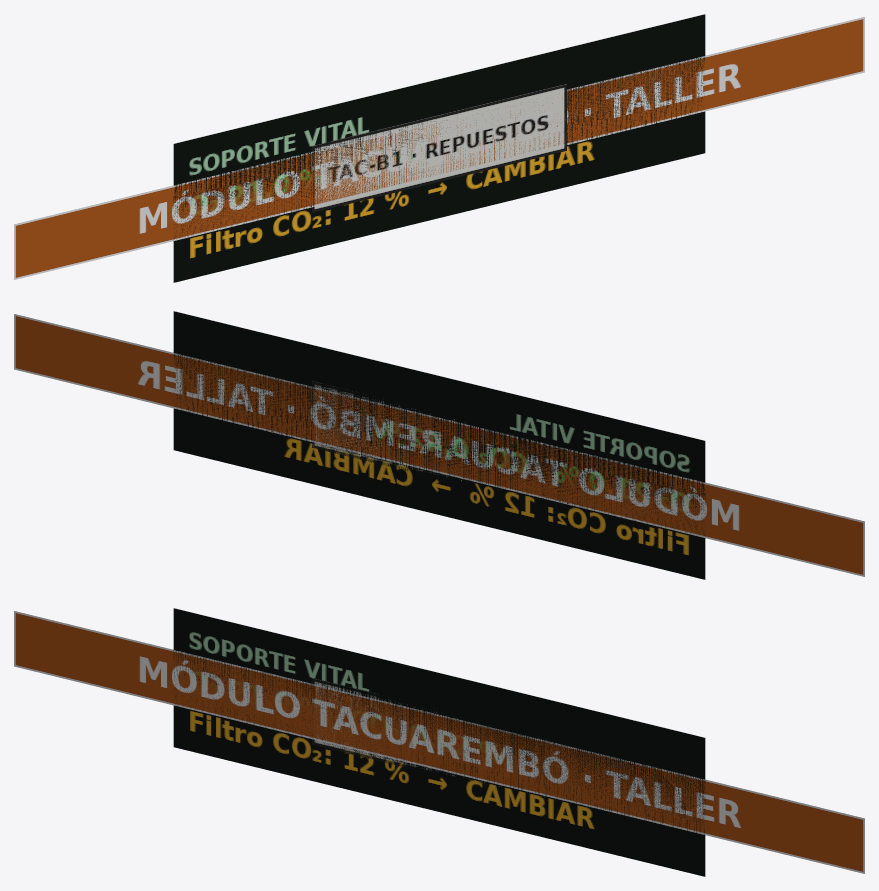
File: SM_Senaletica_Tacuarembo.fbx
3 views of the same model, one above another, from view 1: azimuth 30°, elevation 25°; view 2: azimuth 150°, elevation 25°; view 3: azimuth 330°, elevation 25° (orthographic).
Parts seen in each view (by area): view 1: SM_Pantalla_Soporte_Vital, SM_CartelT_0, SM_Etiqueta_TAC_B1; view 2: SM_Pantalla_Soporte_Vital, SM_CartelT_0, SM_Etiqueta_TAC_B1; view 3: SM_Pantalla_Soporte_Vital, SM_CartelT_0, SM_Etiqueta_TAC_B1.
Boxes of the visible parts, x1=… form: SM_Pantalla_Soporte_Vital: x1=173, y1=14, x2=705, y2=282; SM_CartelT_0: x1=14, y1=17, x2=864, y2=279; SM_Etiqueta_TAC_B1: x1=312, y1=84, x2=566, y2=212; SM_Pantalla_Soporte_Vital: x1=173, y1=311, x2=705, y2=579; SM_CartelT_0: x1=14, y1=314, x2=864, y2=576; SM_Etiqueta_TAC_B1: x1=312, y1=381, x2=474, y2=487; SM_Pantalla_Soporte_Vital: x1=173, y1=608, x2=705, y2=876; SM_CartelT_0: x1=14, y1=611, x2=864, y2=873; SM_Etiqueta_TAC_B1: x1=312, y1=678, x2=556, y2=796.
Size of the model in its own units: 0.8 by 0.125 by 0.
